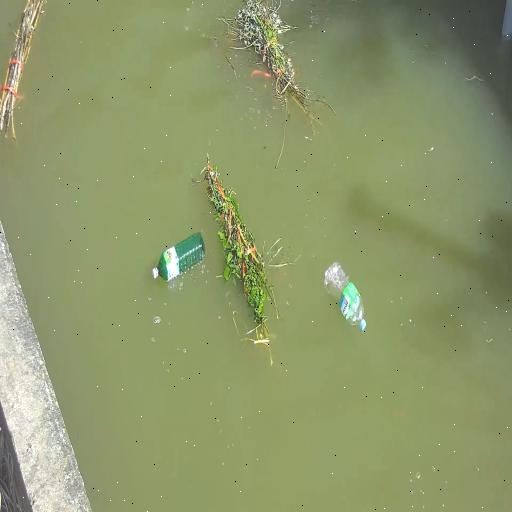plastic: (150, 232, 208, 292), (322, 262, 368, 331)
twig: (194, 158, 280, 360), (228, 4, 318, 138), (0, 0, 56, 142)
